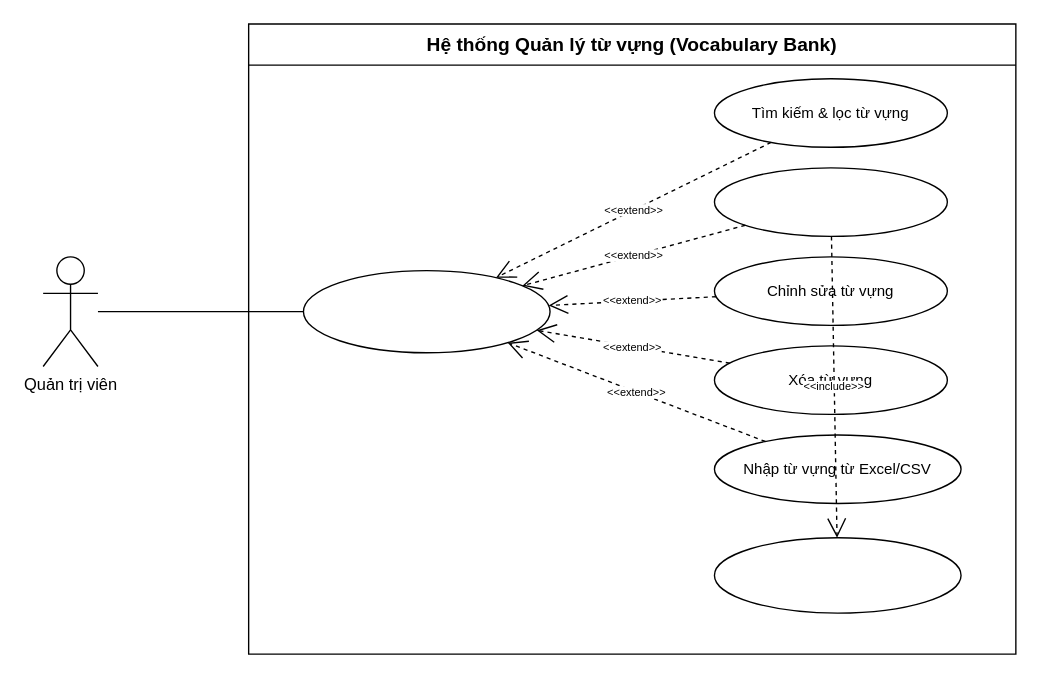
The diagram is 1040 pixels wide and 678 high, and some of its shapes have lost their labels. The box of each missing label's shape, as (x1, y1, x2, y2) in pixels:
Quản lý từ vựng: (302, 269, 550, 353)
Thêm từ vựng mới: (713, 166, 947, 236)
Tra cứu & sinh phát âm tự động: (713, 536, 961, 613)
